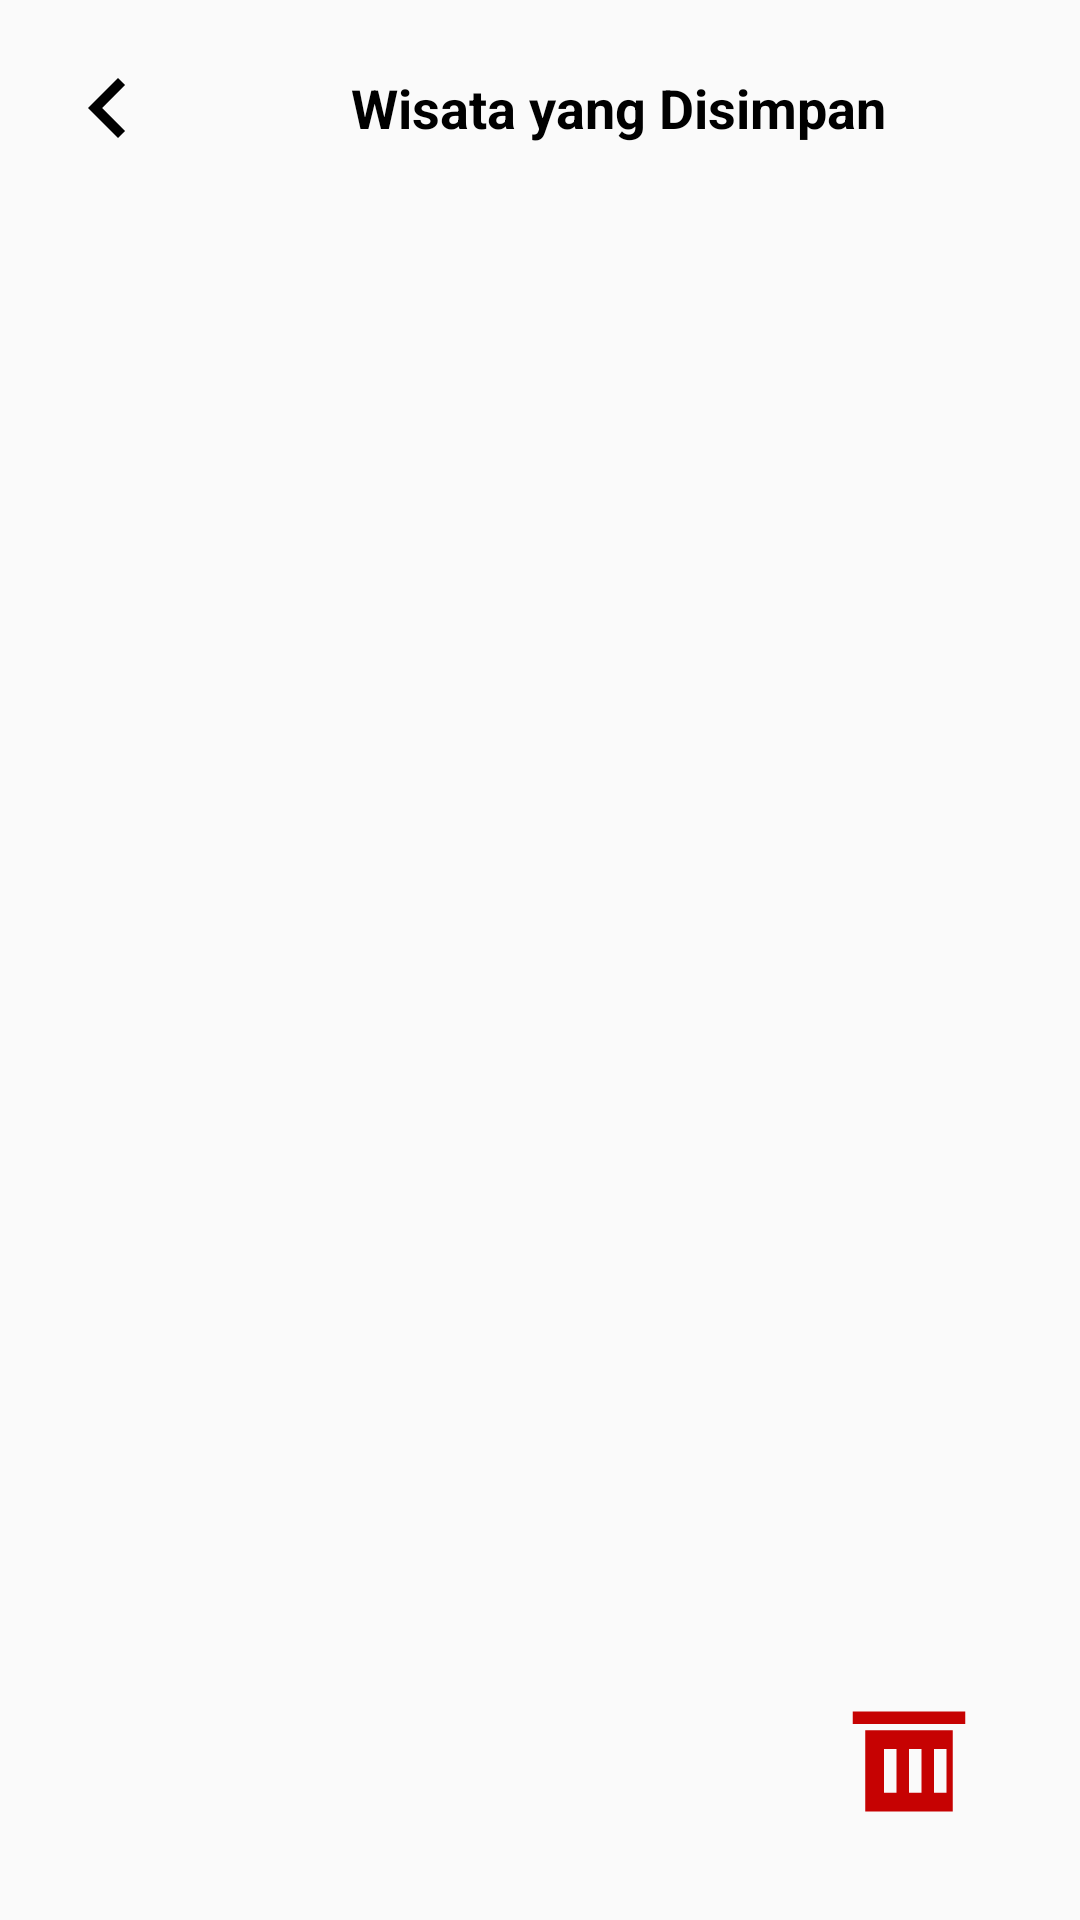

Icon bounding boxes for this 1080px×1920px phone screenshot, format (x1, y1, x2, y2):
Hapus Wisata: (852, 1711, 966, 1812)
